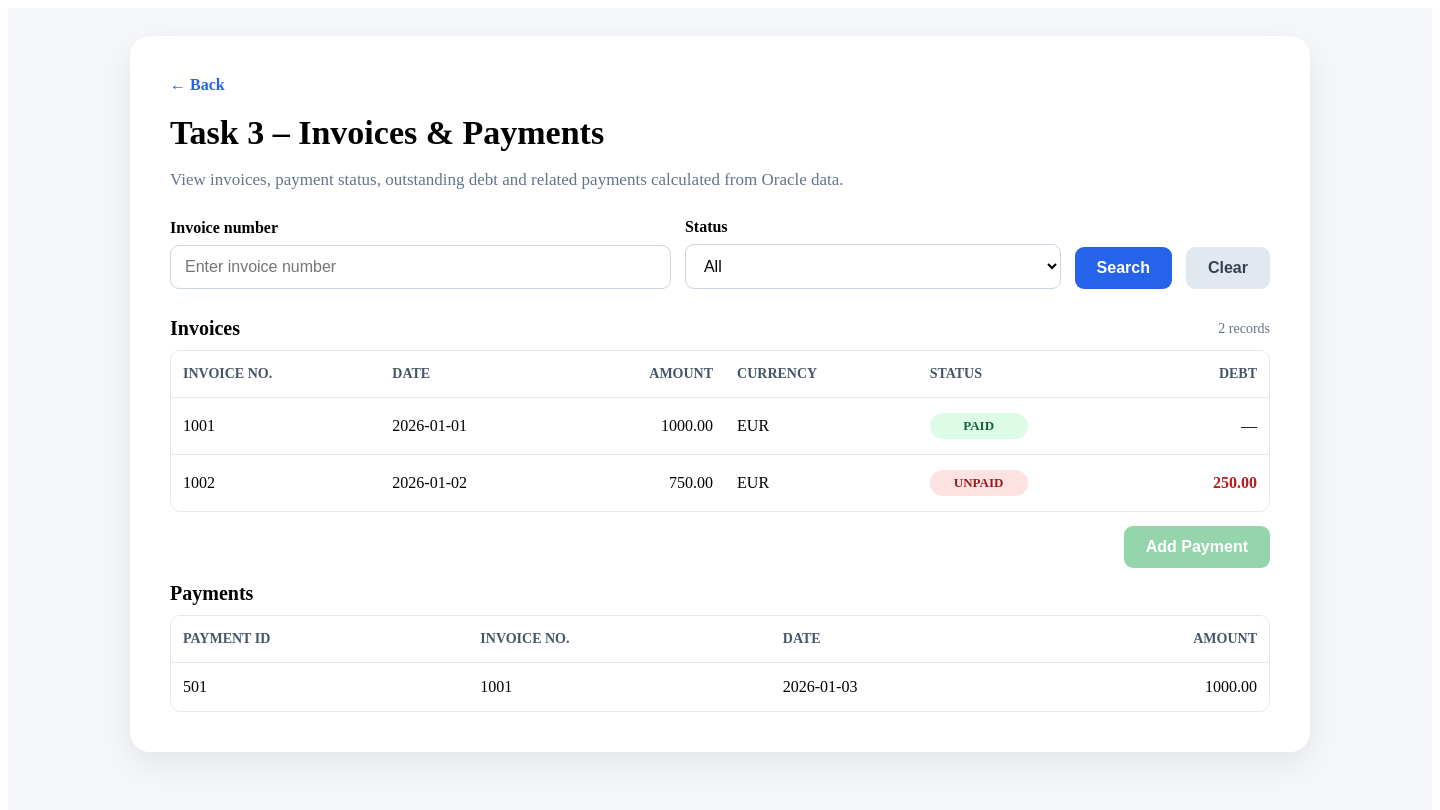
Test case: InvoiceView › shows Oracle business validation failure and keeps payment form open
Type "1002" into the number field with id "invoiceId".
click(420, 267); type("1002")  # box [170,245,671,289]
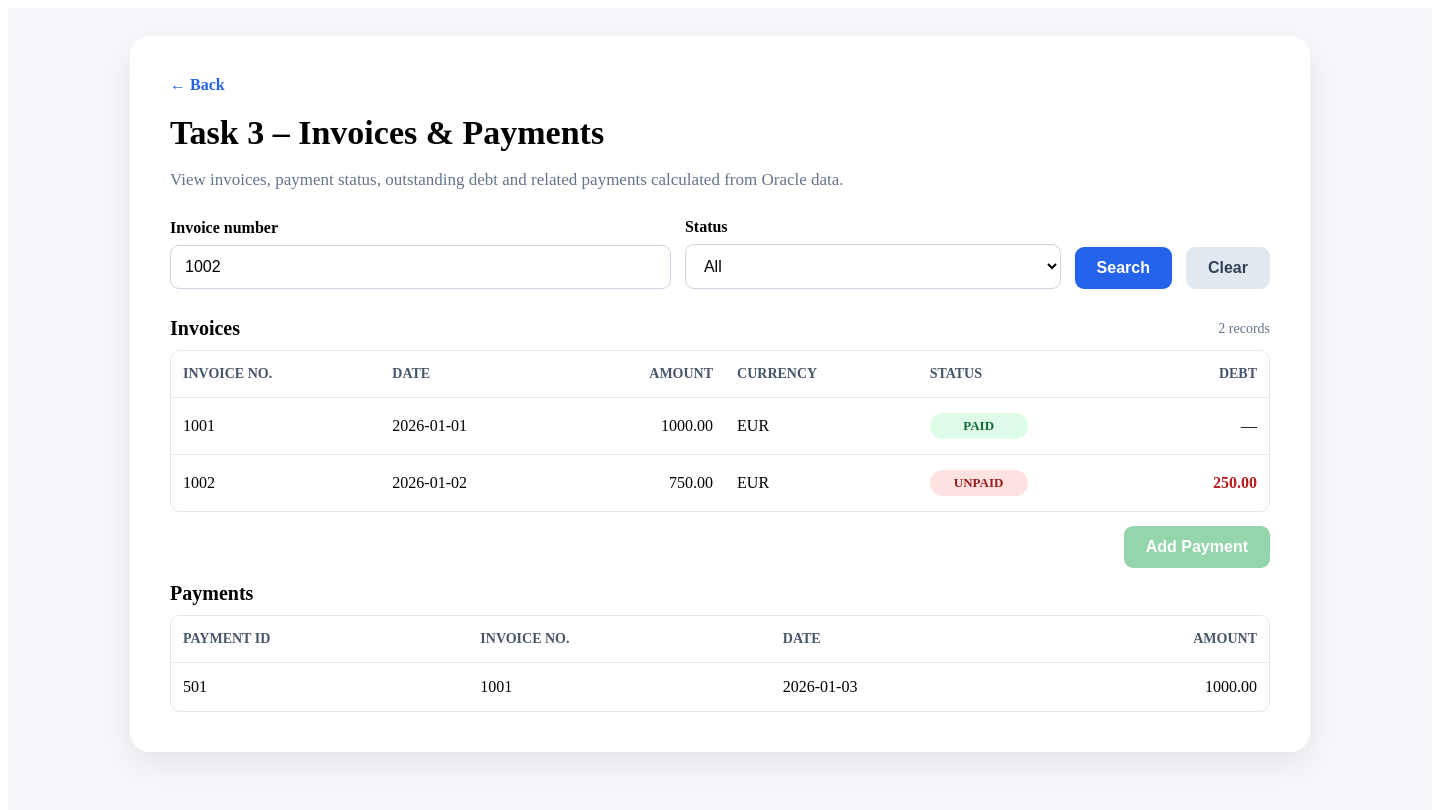
Submit the form with class "filters", box [170,218,1270,289]
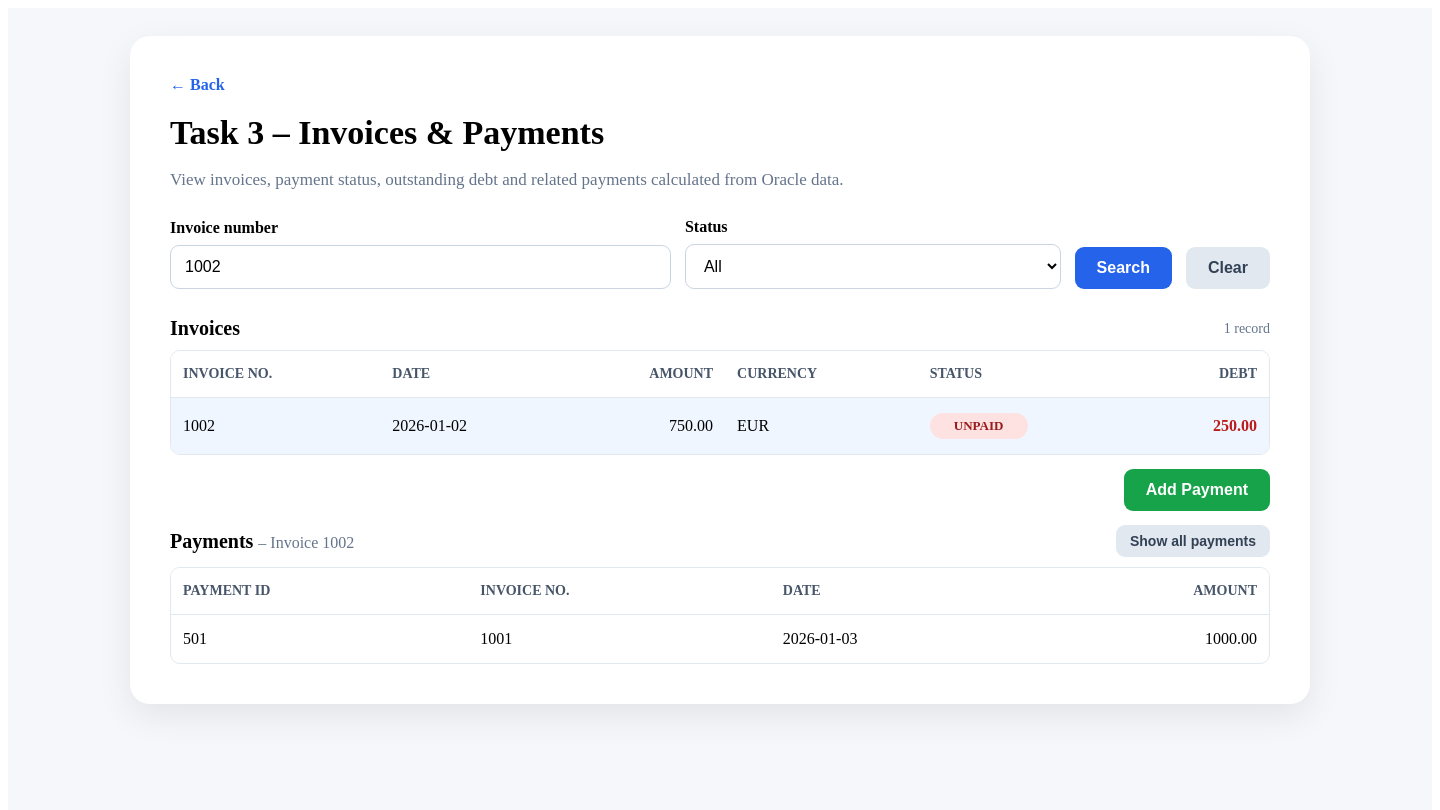
Now the button with class "add-payment" is enabled
Click the button with class "add-payment".
click(1197, 490)  # box [1124,469,1270,511]
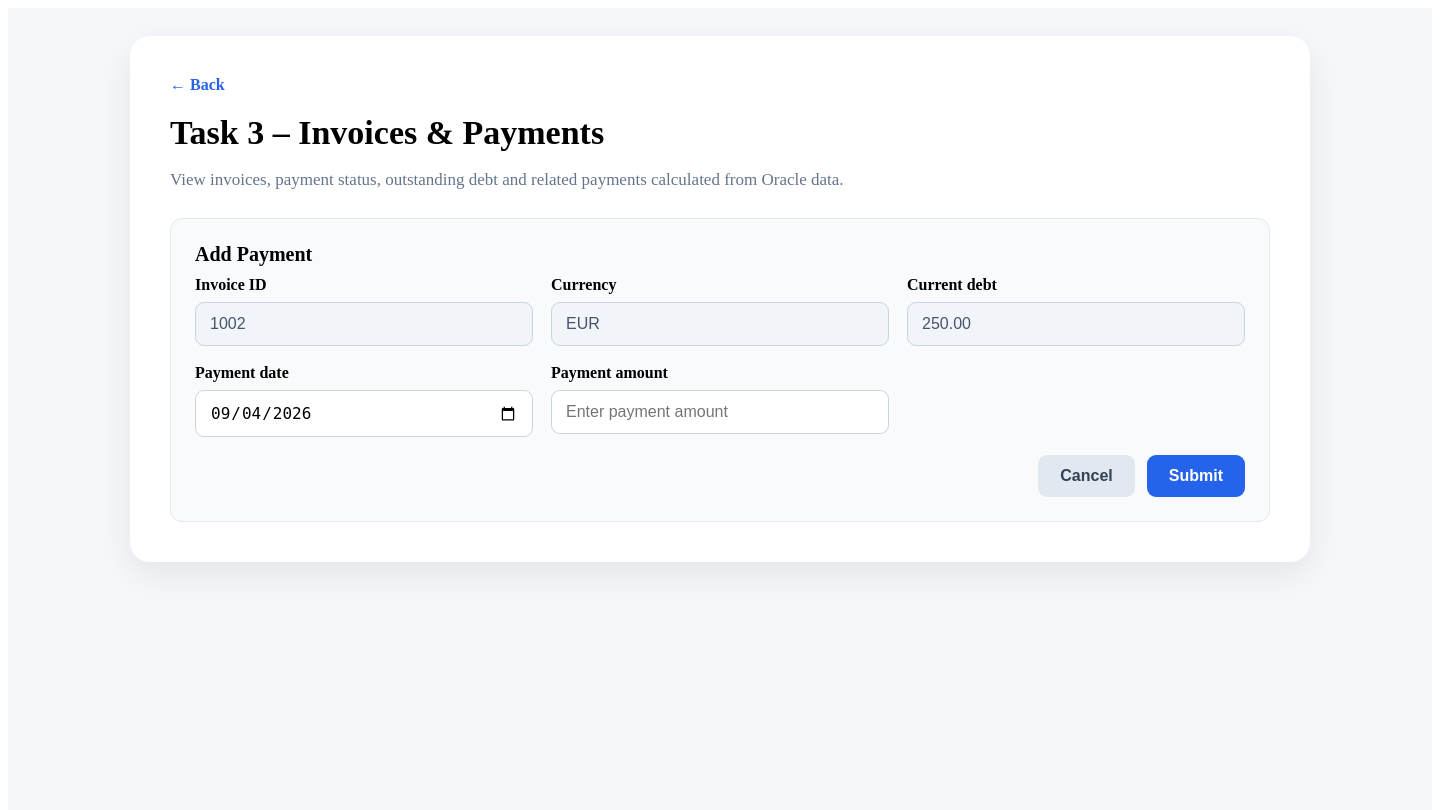
Type "2026-09-03" into the date field labelled "Payment date".
click(364, 414); type("2026-09-03")  # box [195,390,533,437]
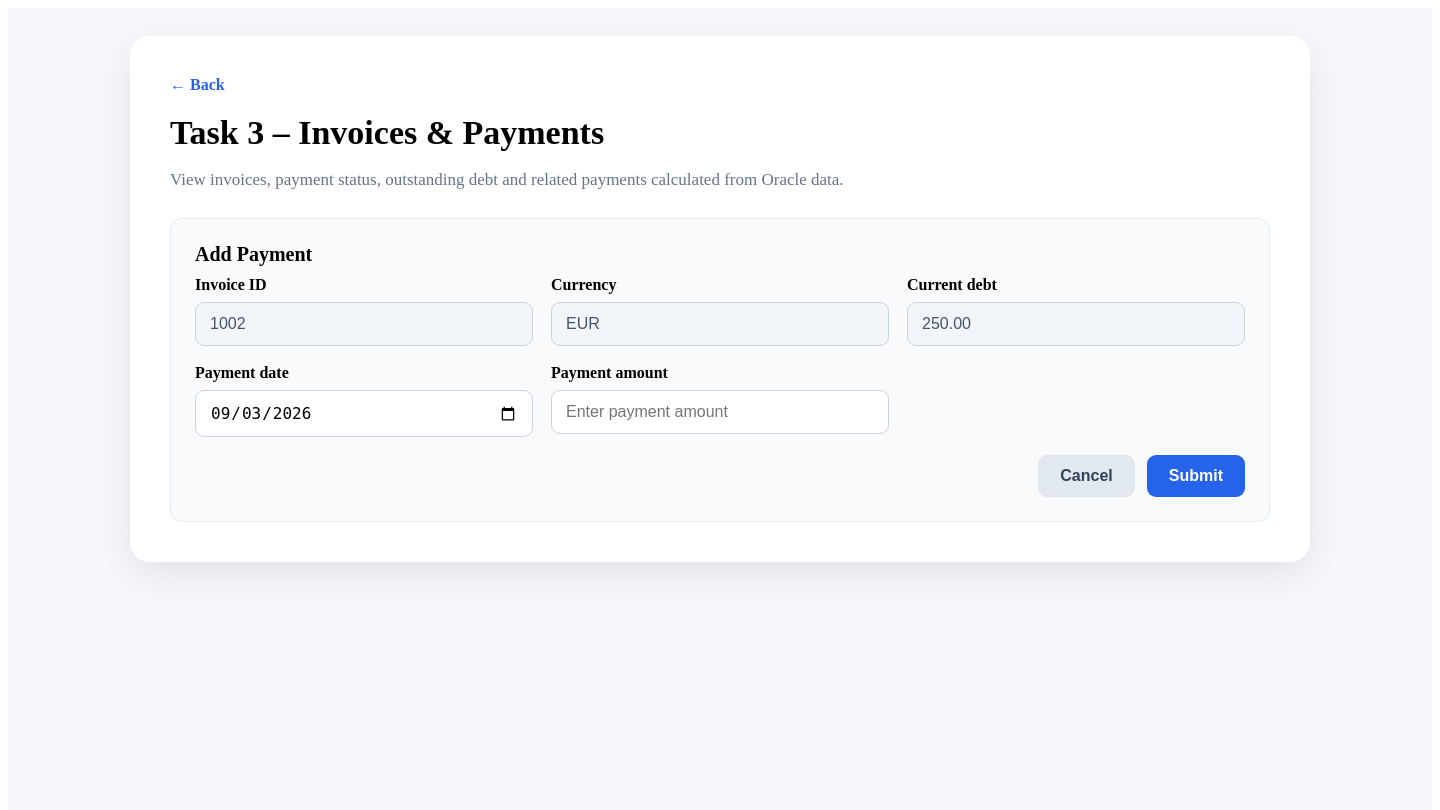
Type "300" into the number field labelled "Payment amount".
click(720, 412); type("300")  # box [551,390,889,434]
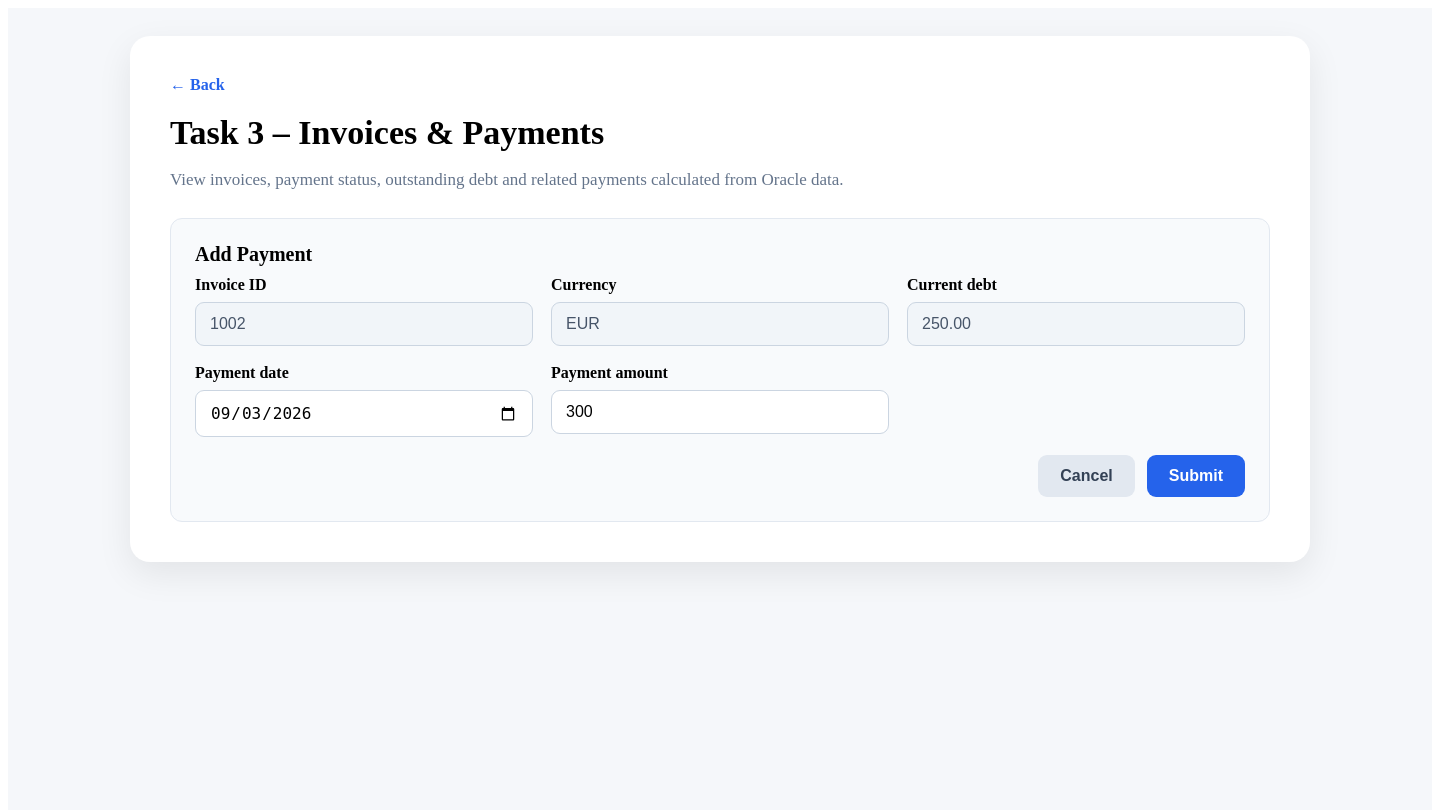
Submit the form, box [195,276,1245,497]
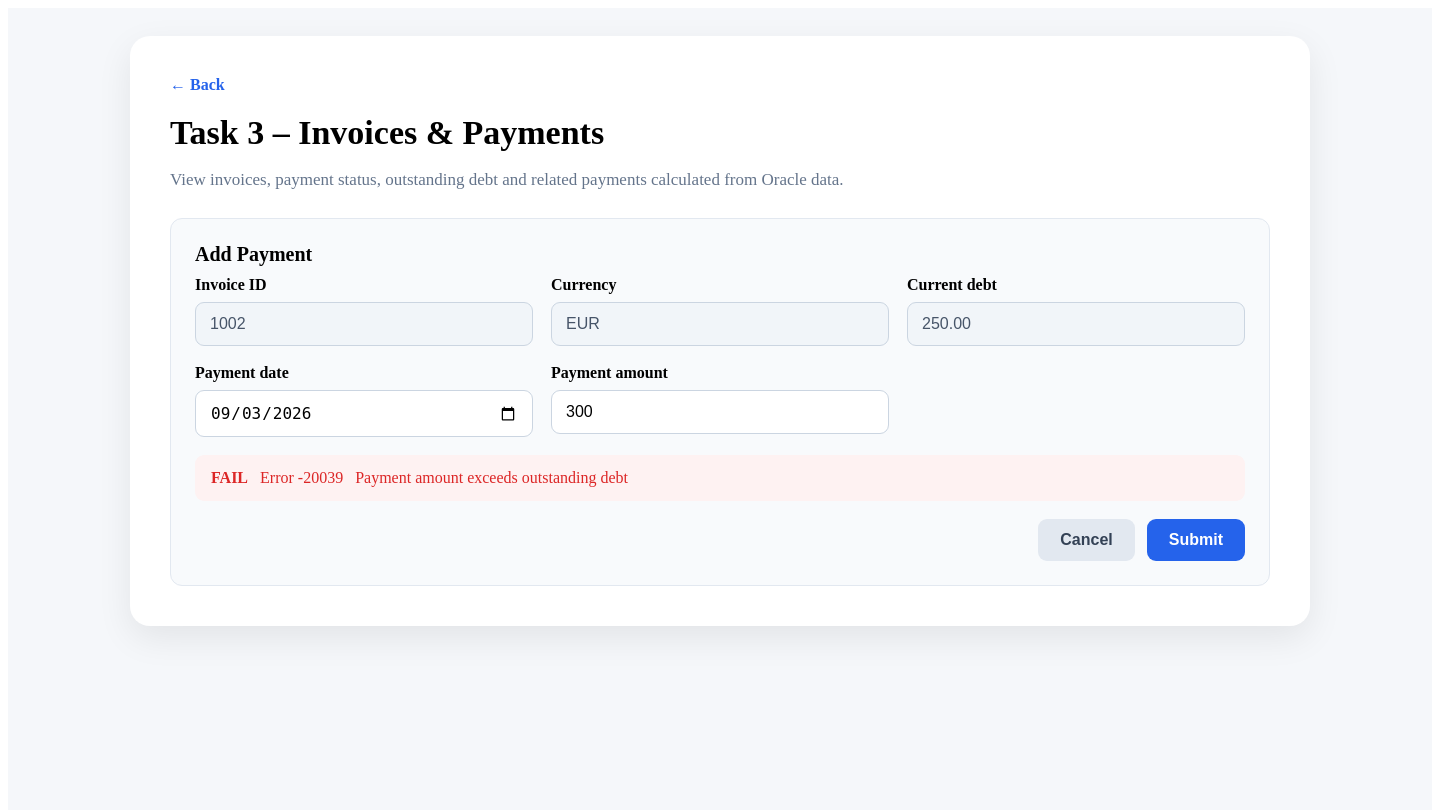
Now the form is shown, box [195,276,1245,561]
Now the element showing "FAIL Error -20039 Payment amount exceeds outstanding debt" is shown, box [195,455,1245,501]
